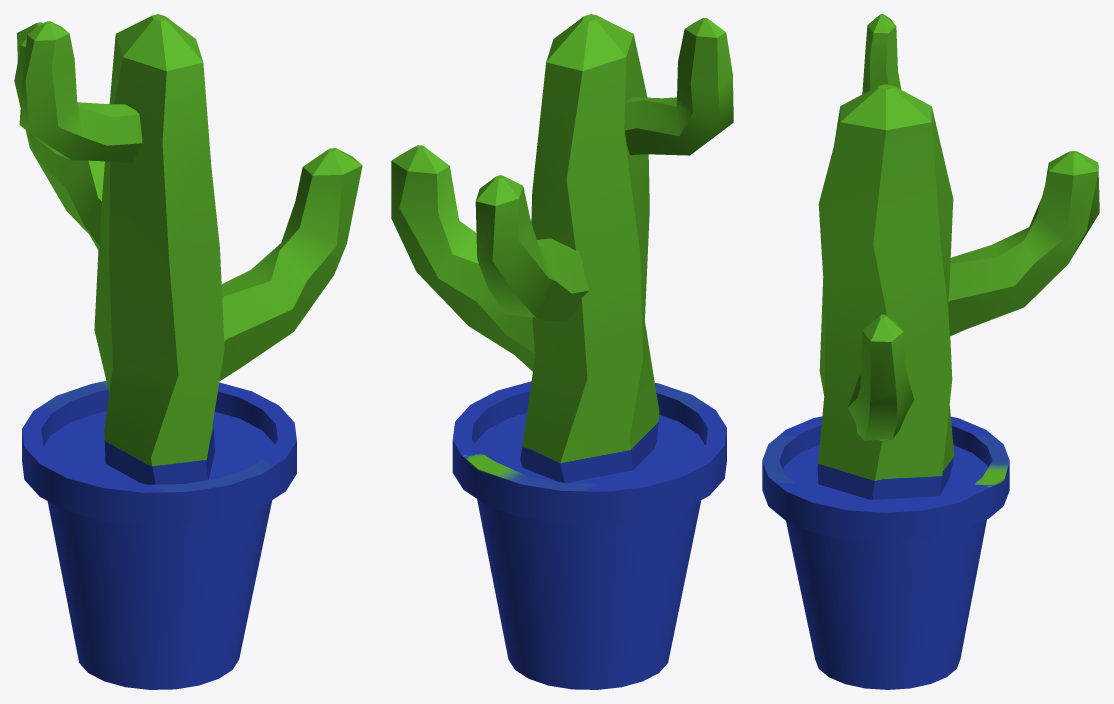
File: plantu.fbx
3 views of the same model, side by side, from view 1: azimuth 30°, elevation 25°; view 2: azimuth 150°, elevation 25°; view 3: azimuth 270°, elevation 25° (orthographic). The views are drawn at different scales.
Visible parts, largest first — view 1: K_cactus; view 2: K_cactus; view 3: K_cactus.
Boxes of the visible parts, box(x1,y1,x2,y2) form: K_cactus: box(14, 14, 362, 689); K_cactus: box(391, 14, 733, 689); K_cactus: box(762, 14, 1099, 689).
Bounding box in the file's own units: 39.96 × 75.68 × 38.95.
1 material, 1 textured.
